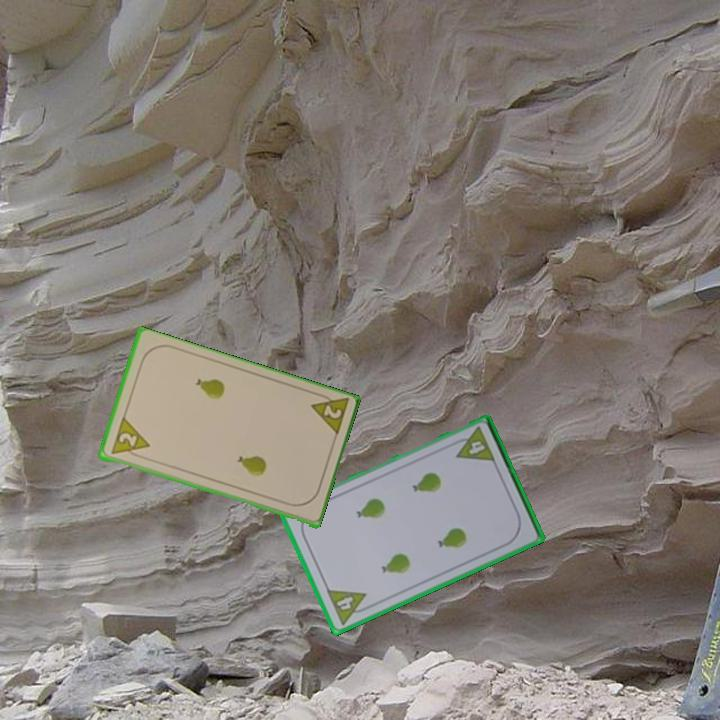2p: (306, 389, 351, 440), (107, 415, 152, 461)
4p: (323, 586, 374, 628), (448, 423, 498, 465)
